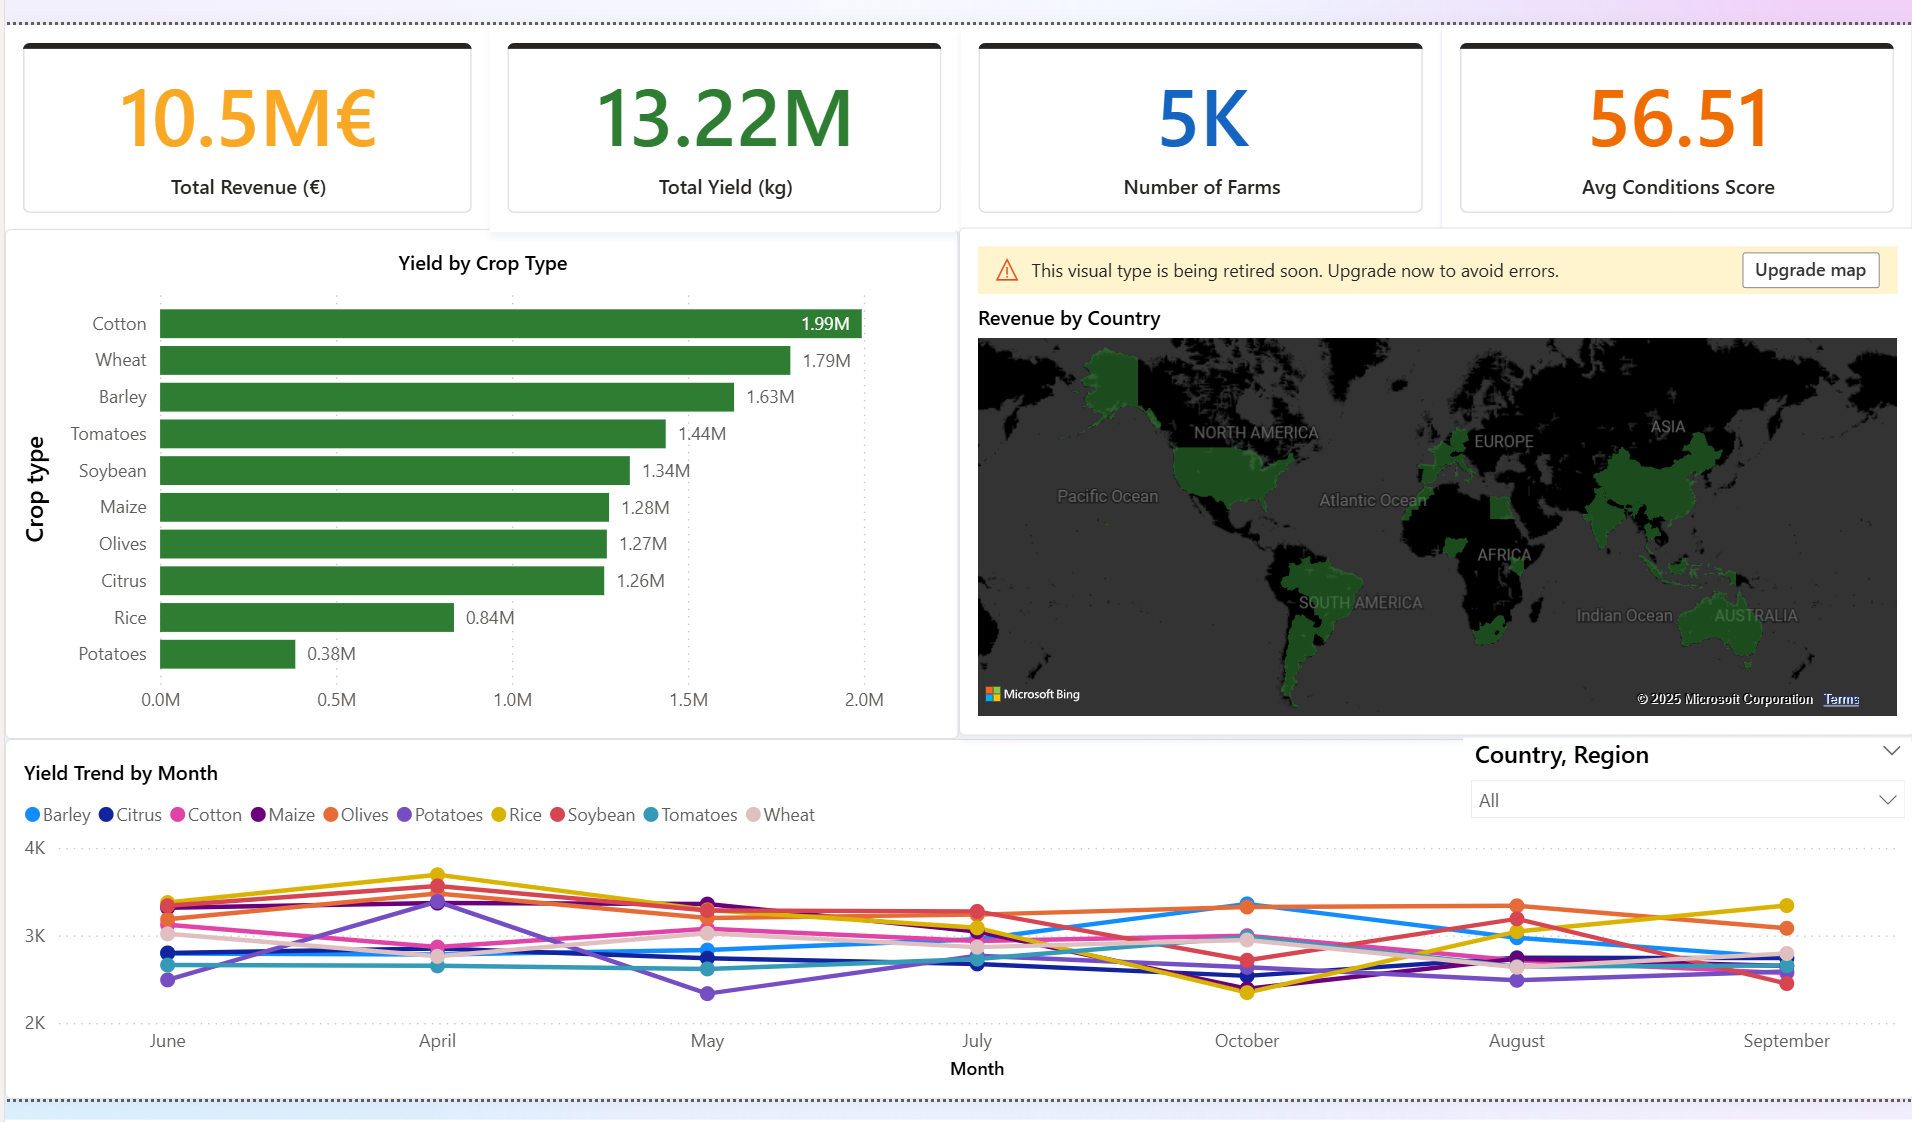

The page's visual inventory and layout, read from the dashboard file:
{"tool":"powerbi","page":{"name":"Summary","canvas":[1280,720],"ordinal":0},"visuals":[{"type":"cardVisual","fields":{"Data":["Fact_Production.Total Revenue"]},"box":[0,0,325.1,138.3],"z":0},{"type":"clusteredBarChart","title":"Yield by Crop Type","fields":{"Category":["Dim_Crop.crop_type"],"Y":["Fact_Production.Total Yield"]},"box":[0,137.2,639.7,342],"z":1000},{"type":"lineChart","title":"Yield Trend by Month","fields":{"Category":["Dim_Time.month_name"],"Y":["Fact_Production.Avg Yield"],"Series":["Dim_Crop.crop_type"]},"box":[0,479.1,1280.4,241.4],"z":2000},{"type":"cardVisual","fields":{"Data":["Fact_Production.Total Yield"]},"box":[325.3,0,315.6,138.4],"z":3000},{"type":"cardVisual","fields":{"Data":["Fact_Production.Farm Count"]},"box":[640.8,0,322.8,138.4],"z":4000},{"type":"cardVisual","fields":{"Data":["Fact_Production.Conditions Score"]},"box":[963.7,0,315.6,138.4],"z":5000},{"type":"filledMap","title":"Revenue by Country","fields":{"Category":["Dim_Region.country"]},"box":[639.7,136.2,641.8,340.9],"z":6000},{"type":"slicer","fields":{"Values":["Dim_Region.country","Dim_Region.region_name"]},"box":[977.8,477.7,301.6,71.2],"z":7000}]}

Visuals, with their boxes on the page's 1280x720 design canvas (x1, y1, x2, y2). These are canvas units, not pixel positions in the 1912x1122 screenshot, which may show the page scaled, cropped or inside an application window:
cardVisual - Fact_Production.Total Revenue: 0, 0, 325, 138
"Yield by Crop Type" clusteredBarChart: 0, 137, 640, 479
"Yield Trend by Month" lineChart: 0, 479, 1280, 720
cardVisual - Fact_Production.Total Yield: 325, 0, 641, 138
cardVisual - Fact_Production.Farm Count: 641, 0, 964, 138
cardVisual - Fact_Production.Conditions Score: 964, 0, 1279, 138
"Revenue by Country" filledMap: 640, 136, 1282, 477
slicer - Dim_Region.country x Dim_Region.region_name: 978, 478, 1279, 549
